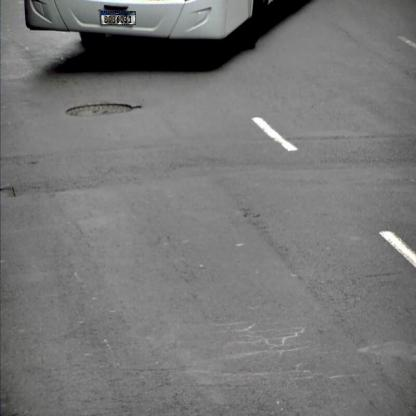PlacaM: (101, 11, 136, 25)
